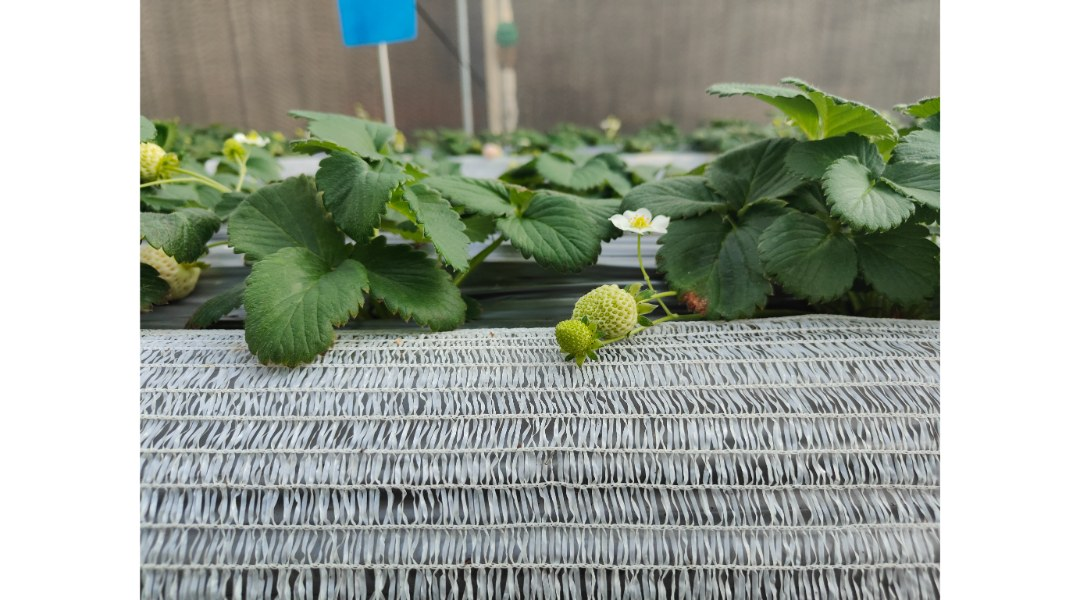berry: (567, 275, 643, 348), (536, 318, 610, 368)
flower: (600, 196, 679, 241)
strain: (631, 230, 657, 290)
